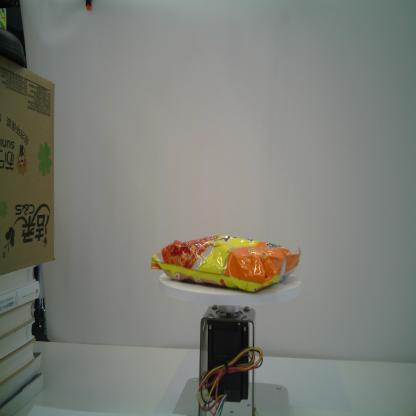Instant Noodles: (148, 235, 302, 294)
